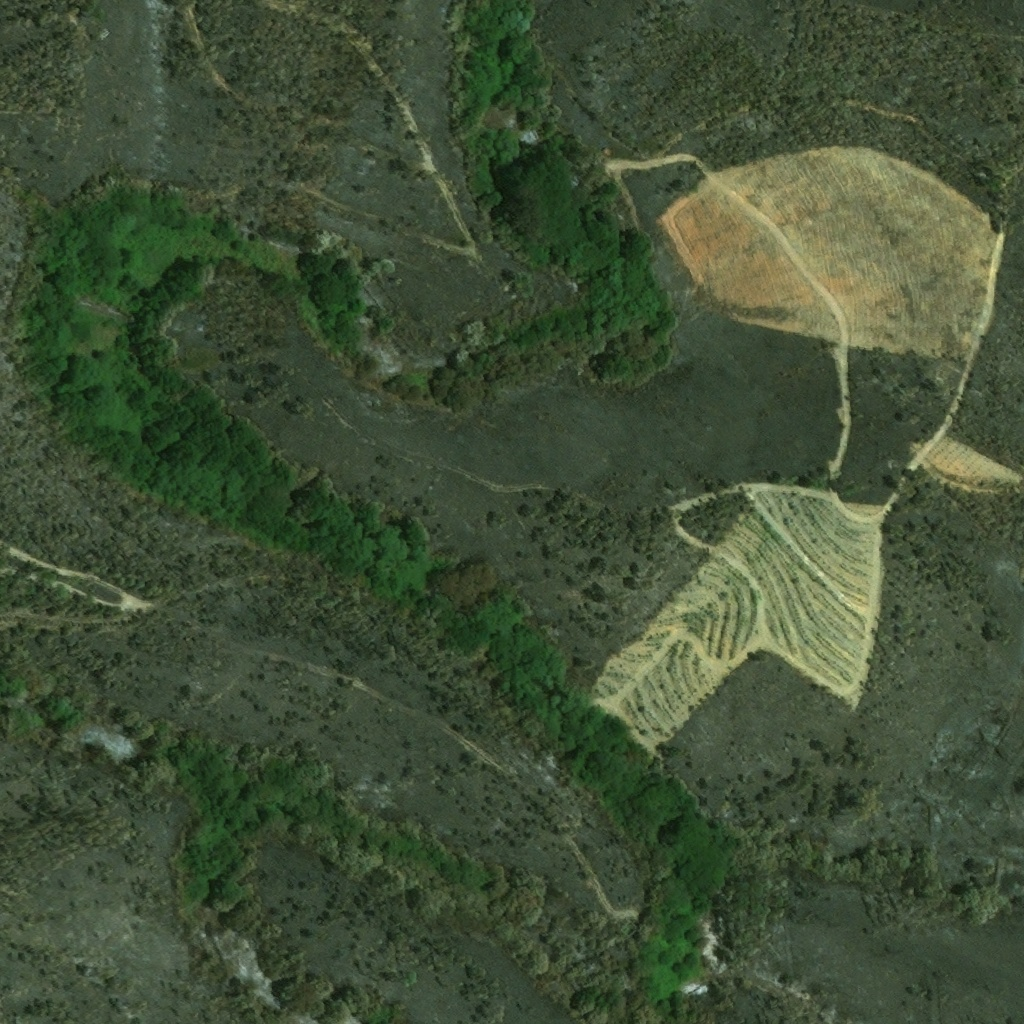0 no-damage: (603, 147, 612, 157)
